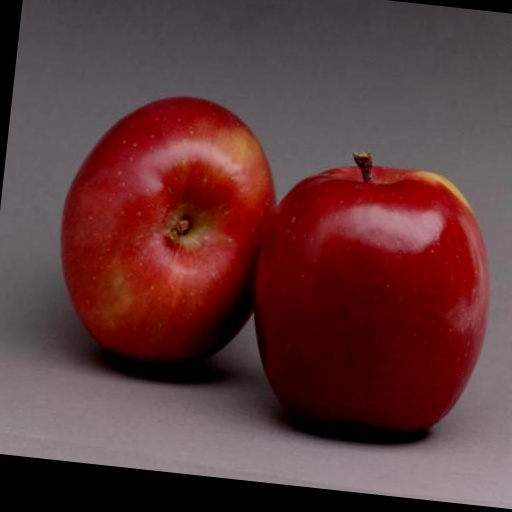fruit: (254, 153, 488, 433), (61, 97, 274, 366)
